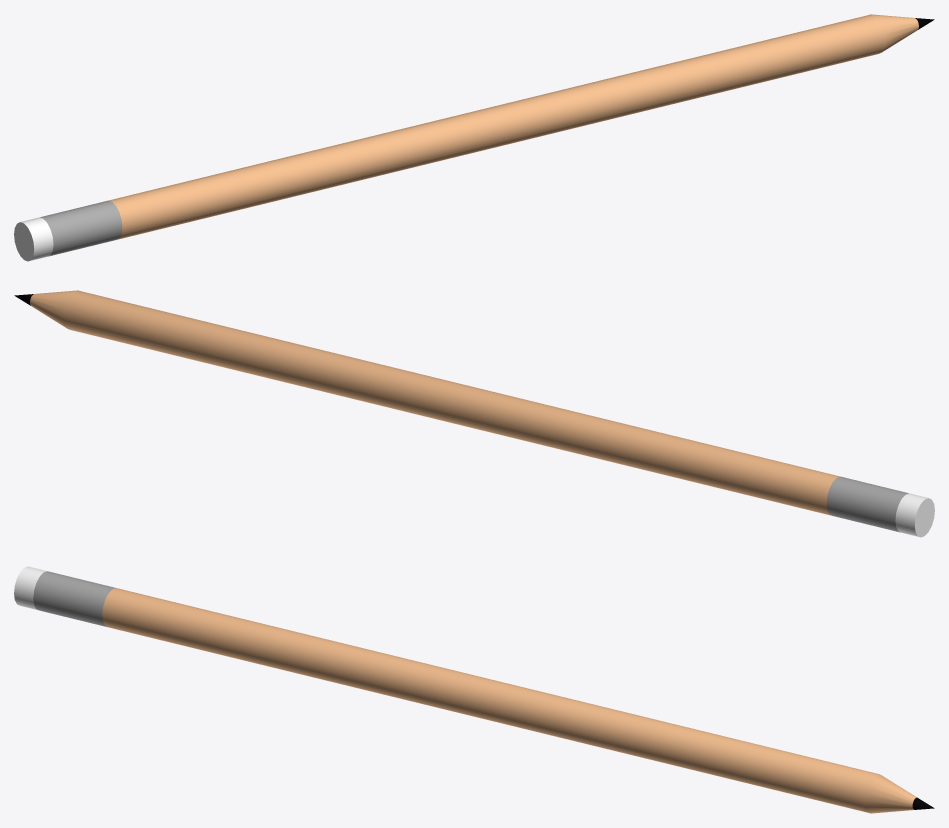
File: Pen.fbx
The picture shows the model from 3 angles, top to bottom: view 1: azimuth 30°, elevation 25°; view 2: azimuth 150°, elevation 25°; view 3: azimuth 330°, elevation 25°; orthographic projection.
Parts seen in each view (by area): view 1: Cylinder; view 2: Cylinder; view 3: Cylinder.
Part boxes in pixels (x1,y1,x2,y2): Cylinder: (14,14,934,261); Cylinder: (14,290,934,537); Cylinder: (14,566,934,813).
Size of the model in its own units: 18.2 by 0.7 by 0.7.
